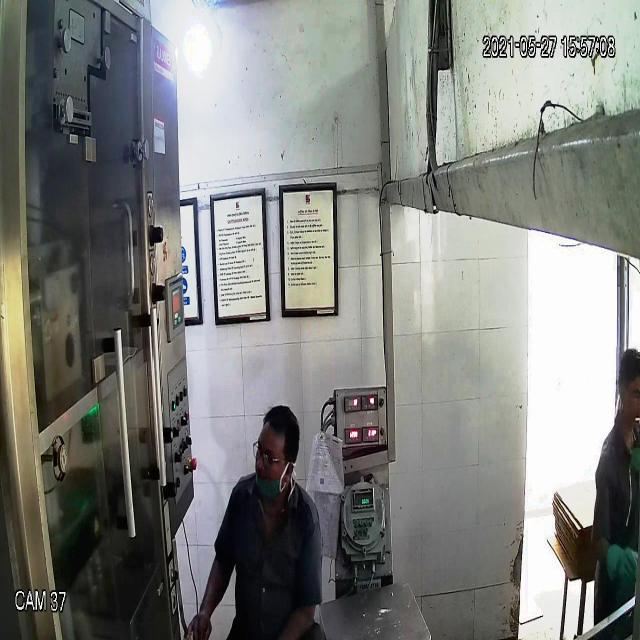glasses: (250, 436, 292, 474)
